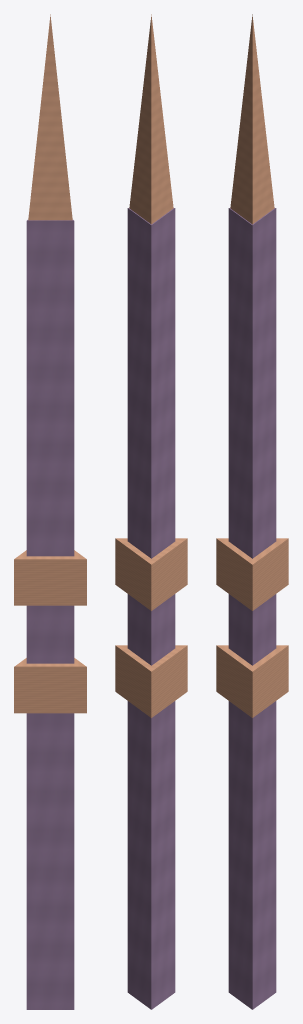
The model's file is atlas100-s085-a05.lod1.glb.
The picture shows the model from 3 angles, left to right: view 1: azimuth 90°, elevation 25°; view 2: azimuth 150°, elevation 25°; view 3: azimuth 270°, elevation 25°; orthographic projection.
Parts seen in each view (by area): view 1: atlas100-s085-a05:part-000, atlas100-s085-a05:part-004, atlas100-s085-a05:part-002, atlas100-s085-a05:part-003; view 2: atlas100-s085-a05:part-000, atlas100-s085-a05:part-004, atlas100-s085-a05:part-002, atlas100-s085-a05:part-003; view 3: atlas100-s085-a05:part-000, atlas100-s085-a05:part-004, atlas100-s085-a05:part-002, atlas100-s085-a05:part-003.
Part boxes in pixels (x1,y1,x2,y2): atlas100-s085-a05:part-000: [26, 220, 74, 1009]; atlas100-s085-a05:part-004: [28, 14, 72, 220]; atlas100-s085-a05:part-002: [14, 658, 86, 713]; atlas100-s085-a05:part-003: [14, 550, 86, 605]; atlas100-s085-a05:part-000: [127, 208, 175, 1009]; atlas100-s085-a05:part-004: [129, 14, 173, 224]; atlas100-s085-a05:part-002: [115, 645, 187, 717]; atlas100-s085-a05:part-003: [115, 538, 187, 610]; atlas100-s085-a05:part-000: [228, 208, 276, 1009]; atlas100-s085-a05:part-004: [230, 14, 274, 224]; atlas100-s085-a05:part-002: [216, 645, 288, 717]; atlas100-s085-a05:part-003: [216, 538, 288, 610].
Bounding box in the file's own units: 0.0868 × 1.51 × 0.1002.
Materials: 2 (2 with a texture image).
